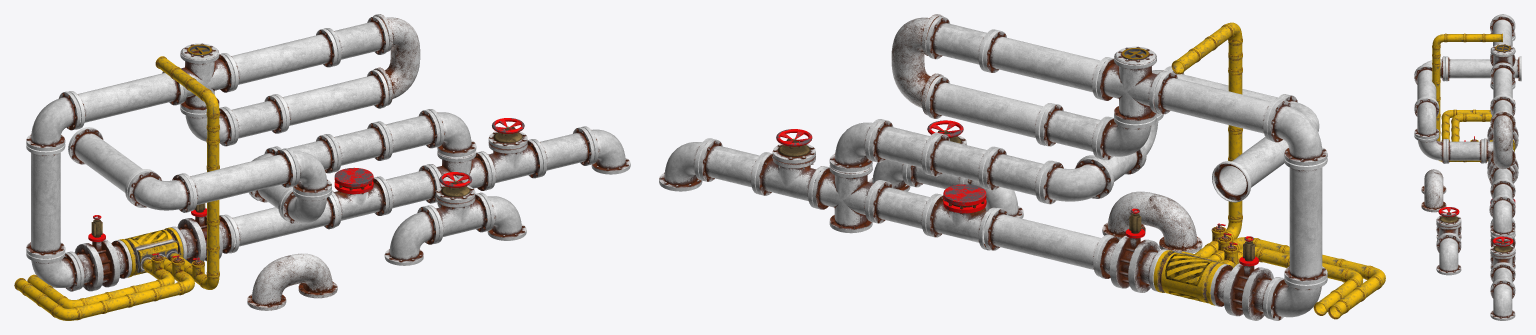
File: tuberias.fbx
3 renders of one model, left to right at view 1: azimuth 30°, elevation 25°; view 2: azimuth 150°, elevation 25°; view 3: azimuth 270°, elevation 25°, orthographic. The views are drawn at different scales.
Visible parts, largest first — view 1: LONG_PIPE, LONG_PIPE_2, LONG_PIPE_3, LONG_PIPE_5, U_1, Null, LONG_PIPE_1, Null_2, VALVE_02_1, VALVE_02, VALVE_03_1, Null_1 (+25 smaller); view 2: Null, LONG_PIPE, LONG_PIPE_3, LONG_PIPE_2, LONG_PIPE_1, LONG_PIPE_4, CROSS_PIPE, U_1, VALVE_02, VALVE_03, VALVE_03_1, CROSS_PIPE_1 (+23 smaller); view 3: U, Null_2, LONG_PIPE_6, Default_6, Default_13, Default_14, Default_7, U_1, Default_2, LONG_PIPE_2, VALVE_02, VALVE_02_1 (+15 smaller).
Boxes of the visible parts, bbox=[...] form: LONG_PIPE: bbox=[26, 144, 65, 258]; LONG_PIPE_2: bbox=[221, 29, 337, 91]; LONG_PIPE_3: bbox=[272, 70, 388, 132]; LONG_PIPE_5: bbox=[179, 149, 296, 211]; U_1: bbox=[247, 253, 337, 310]; Null: bbox=[27, 227, 191, 308]; LONG_PIPE_1: bbox=[69, 71, 183, 129]; Null_2: bbox=[155, 56, 219, 289]; VALVE_02_1: bbox=[427, 172, 490, 243]; VALVE_02: bbox=[478, 118, 543, 189]; VALVE_03_1: bbox=[66, 215, 131, 291]; Null_1: bbox=[14, 273, 194, 320]; Null: bbox=[1153, 243, 1362, 315]; LONG_PIPE: bbox=[1284, 157, 1327, 284]; LONG_PIPE_3: bbox=[926, 76, 1053, 145]; LONG_PIPE_2: bbox=[983, 30, 1111, 99]; LONG_PIPE_1: bbox=[1154, 71, 1283, 140]; LONG_PIPE_4: bbox=[984, 208, 1114, 276]; CROSS_PIPE: bbox=[1096, 46, 1167, 124]; U_1: bbox=[1102, 191, 1202, 253]; VALVE_02: bbox=[755, 129, 827, 208]; VALVE_03: bbox=[1096, 208, 1168, 292]; VALVE_03_1: bbox=[1210, 236, 1282, 320]; CROSS_PIPE_1: bbox=[812, 165, 884, 233]; U: bbox=[1490, 111, 1515, 169]; Null_2: bbox=[1432, 33, 1502, 161]; LONG_PIPE_6: bbox=[1445, 56, 1521, 81]; Default_6: bbox=[1490, 279, 1515, 320]; Default_13: bbox=[1414, 97, 1439, 139]; Default_14: bbox=[1436, 234, 1461, 275]; Default_7: bbox=[1490, 196, 1515, 236]; U_1: bbox=[1421, 169, 1446, 212]; Default_2: bbox=[1446, 139, 1483, 163]; LONG_PIPE_2: bbox=[1490, 63, 1515, 106]; VALVE_02: bbox=[1490, 236, 1515, 274]; VALVE_02_1: bbox=[1436, 207, 1461, 244].
Size of the model in its own units: 1592 by 546 by 377.
14 materials, 14 textured.
